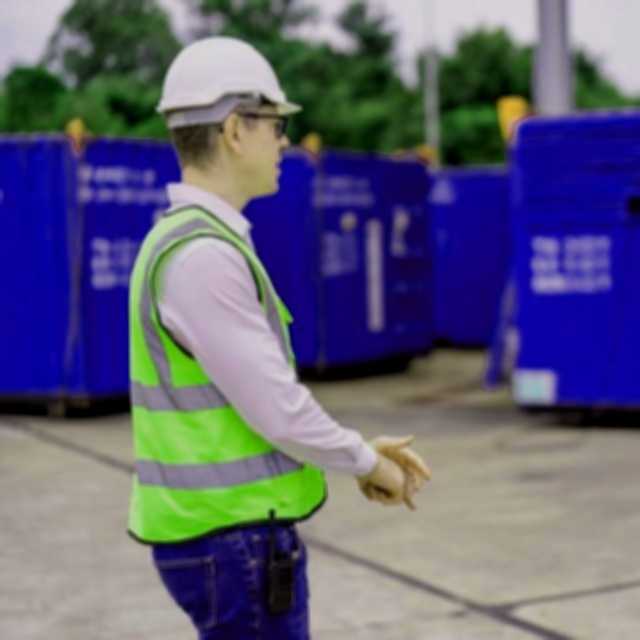Con_Casco: (158, 31, 302, 197)
Con_Chaleco: (111, 211, 332, 519)
